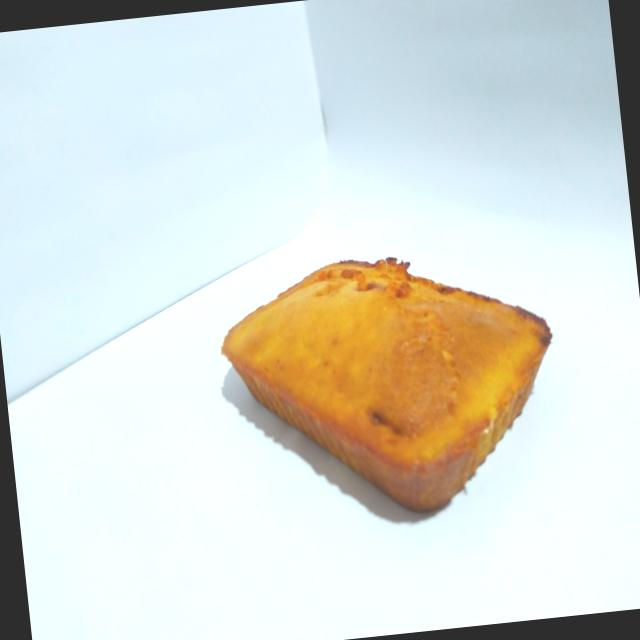Sopa: (196, 226, 576, 546)
